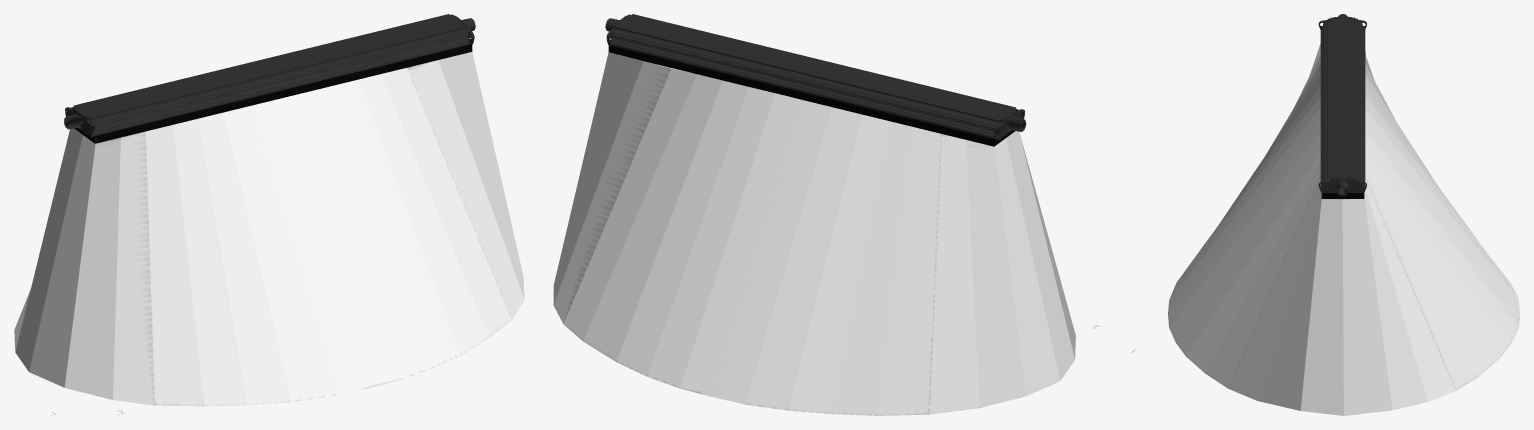
Rendered from dlla_combined.obj.
3 views of the same model, side by side, from view 1: azimuth 30°, elevation 25°; view 2: azimuth 150°, elevation 25°; view 3: azimuth 270°, elevation 25° (orthographic). The views are drawn at different scales.
Parts seen in each view (by area): view 1: Cylinder, DLL4_UNV1S903D, Cube; view 2: Cylinder, DLL4_UNV1S903D, Cube; view 3: Cylinder, DLL4_UNV1S903D.
Boxes of the visible parts, box(x1,y1,x2,y2) form: Cylinder: box(14, 52, 524, 406); DLL4_UNV1S903D: box(64, 14, 475, 137); Cube: box(74, 44, 472, 143); Cylinder: box(553, 52, 1075, 415); DLL4_UNV1S903D: box(605, 14, 1026, 139); Cube: box(608, 45, 1015, 146); Cylinder: box(1168, 43, 1519, 415); DLL4_UNV1S903D: box(1318, 14, 1366, 195).
Bounding box in the file's own units: 65.59 × 30.64 × 45.24.
4 materials, 3 textured.
